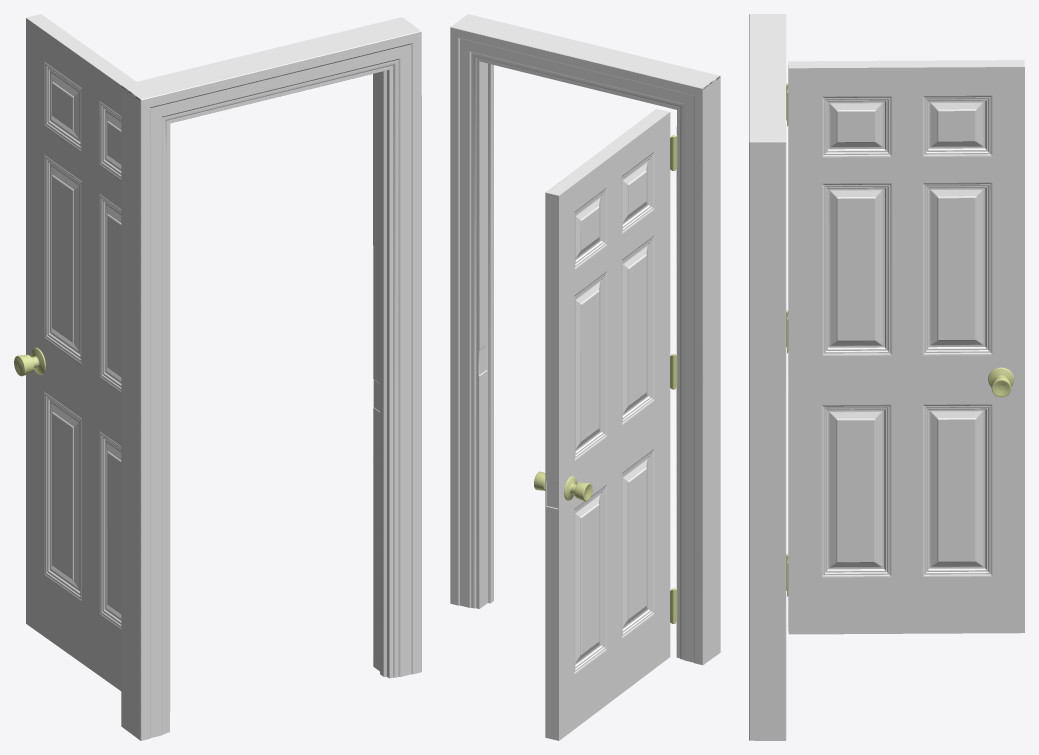
The model's file is panel_interior_door_full_open_low_detail.glb.
The picture shows the model from 3 angles, left to right: view 1: azimuth 30°, elevation 25°; view 2: azimuth 150°, elevation 25°; view 3: azimuth 270°, elevation 25°; orthographic projection. The views are drawn at different scales.
Visible parts, largest first — view 1: doorFrame_geo, doorBase_geo; view 2: doorBase_geo, doorFrame_geo, handleHandle_geo.001; view 3: doorBase_geo, doorFrame_geo.
Boxes of the visible parts, x1=… form: doorFrame_geo: x1=121, y1=17, x2=421, y2=740; doorBase_geo: x1=26, y1=14, x2=170, y2=711; doorBase_geo: x1=545, y1=108, x2=670, y2=740; doorFrame_geo: x1=450, y1=14, x2=720, y2=665; handleHandle_geo.001: x1=534, y1=471, x2=592, y2=501; doorBase_geo: x1=788, y1=60, x2=1024, y2=634; doorFrame_geo: x1=749, y1=14, x2=786, y2=740.
Size of the model in its own units: 0.9751 by 2.12 by 0.8855.
Materials: 2 (1 with a texture image).
